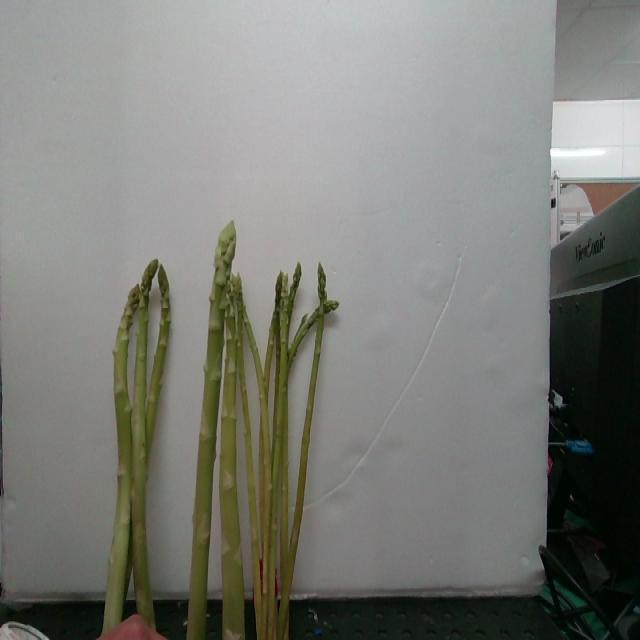aspargus: (184, 221, 236, 640), (104, 283, 140, 634)
